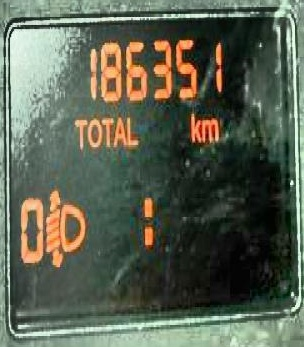0: (17, 191, 44, 264)
1: (86, 42, 97, 100), (212, 36, 223, 94)
3: (148, 35, 172, 100)
5: (173, 33, 198, 98)
6: (123, 36, 148, 102)
8: (98, 36, 122, 102)
X: (140, 189, 154, 247), (70, 111, 87, 149), (200, 111, 219, 142), (98, 111, 112, 149), (86, 113, 100, 149), (112, 111, 125, 149), (187, 105, 200, 143), (125, 113, 139, 147)
